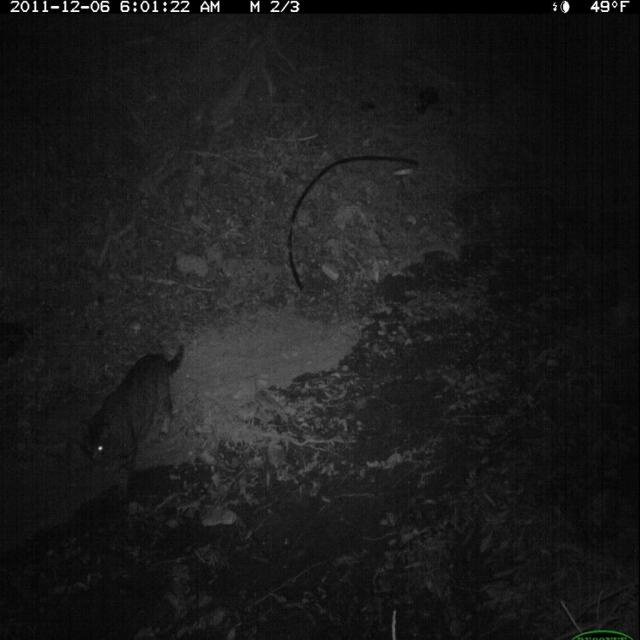cat: (75, 341, 198, 495)
